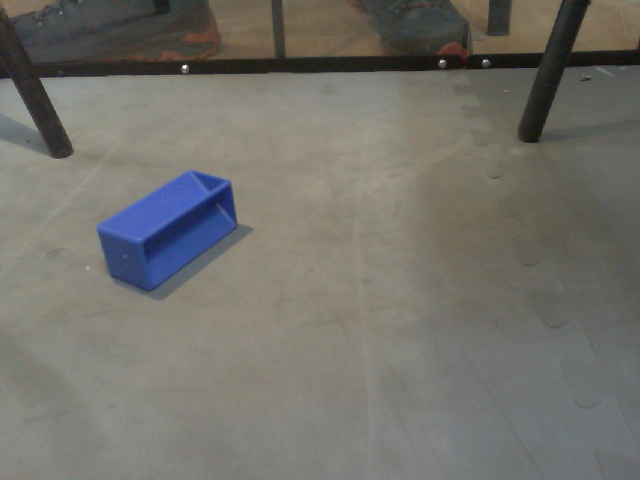BlueSample: (94, 168, 242, 295)
